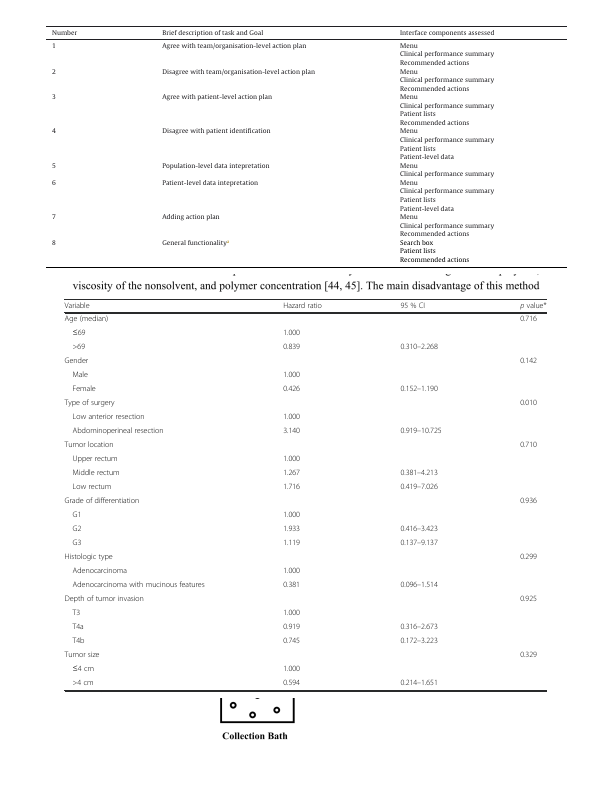borderless: (63, 298, 546, 690), (45, 25, 567, 267)
cell: (398, 94, 494, 128), (398, 128, 494, 162), (398, 180, 494, 214), (398, 68, 494, 94), (398, 43, 494, 68), (398, 214, 494, 239), (398, 240, 470, 265), (398, 162, 494, 179), (161, 68, 315, 77), (71, 581, 205, 591), (161, 43, 307, 51), (161, 128, 271, 137), (161, 162, 270, 171), (71, 427, 164, 437), (161, 29, 264, 38), (161, 94, 272, 102), (398, 29, 495, 38), (63, 595, 145, 605), (161, 180, 258, 188), (63, 497, 140, 507), (71, 413, 145, 423), (161, 239, 230, 248), (71, 567, 128, 577), (64, 399, 115, 409), (63, 553, 114, 563), (64, 441, 114, 451), (71, 469, 121, 479), (161, 214, 220, 222), (71, 455, 118, 465), (64, 315, 109, 325), (399, 427, 442, 437), (71, 483, 112, 493), (399, 343, 439, 353), (399, 385, 439, 395), (399, 469, 439, 479), (399, 483, 439, 493), (399, 525, 439, 535), (399, 539, 439, 549), (399, 581, 439, 591), (399, 623, 439, 633), (399, 637, 439, 647), (399, 679, 439, 689), (63, 651, 100, 661), (282, 302, 323, 311), (71, 385, 97, 395), (519, 302, 547, 311), (50, 29, 78, 38), (64, 357, 89, 367), (399, 302, 426, 311), (71, 665, 95, 675), (64, 302, 90, 311), (71, 679, 94, 689), (519, 315, 538, 325), (282, 329, 301, 339), (282, 343, 301, 353), (519, 357, 538, 367), (282, 371, 301, 381), (282, 385, 301, 395), (519, 399, 538, 409), (282, 413, 301, 423), (282, 427, 301, 437), (519, 441, 538, 451), (282, 455, 301, 465), (282, 469, 301, 479), (282, 483, 301, 493), (519, 497, 538, 507), (282, 511, 301, 521), (282, 525, 301, 535), (282, 539, 301, 549), (519, 553, 538, 563), (282, 567, 301, 577), (282, 581, 301, 591), (519, 595, 538, 605), (282, 609, 301, 619), (282, 623, 301, 633), (282, 637, 301, 647), (519, 651, 538, 661), (282, 665, 301, 675), (282, 679, 301, 689), (71, 371, 89, 381), (71, 329, 86, 339), (71, 343, 86, 353), (71, 623, 85, 633), (71, 637, 85, 647), (71, 511, 82, 521), (71, 525, 82, 535), (71, 539, 82, 549), (71, 609, 81, 619), (50, 68, 56, 77), (50, 128, 56, 137), (50, 162, 56, 171), (50, 43, 56, 51), (50, 94, 56, 102), (50, 180, 56, 188), (50, 214, 56, 222), (50, 240, 56, 248)
